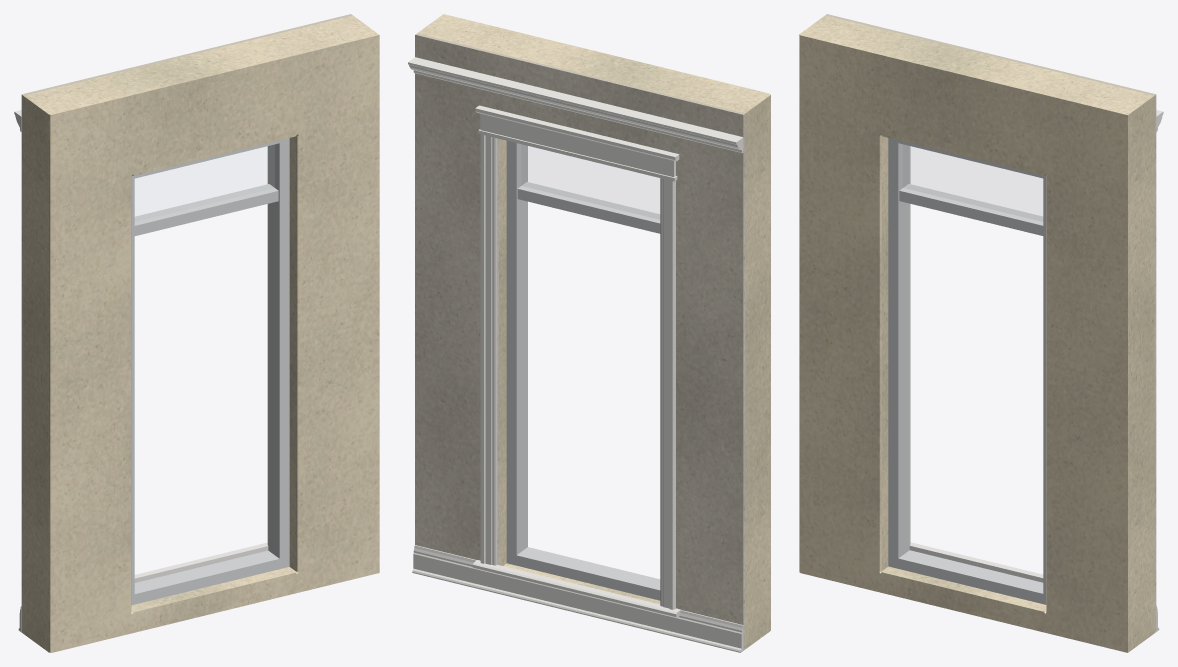
The model's file is wall_lobby_door.glb.
3 renders of one model, left to right at view 1: azimuth 30°, elevation 25°; view 2: azimuth 150°, elevation 25°; view 3: azimuth 330°, elevation 25°, orthographic.
Visible parts, largest first — view 1: wall_lobby_door_stucco, wall_lobby_door_alu, wall_lobby_door_glass, wall_lobby_door_plaster, molduras; view 2: wall_lobby_door_plaster, molduras, wall_lobby_door_stucco, wall_lobby_door_alu, wall_lobby_door_glass; view 3: wall_lobby_door_stucco, wall_lobby_door_alu, wall_lobby_door_glass, wall_lobby_door_plaster, molduras.
Boxes of the visible parts, x1=… form: wall_lobby_door_stucco: x1=23, y1=15, x2=379, y2=652; wall_lobby_door_alu: x1=131, y1=138, x2=289, y2=605; wall_lobby_door_glass: x1=135, y1=145, x2=274, y2=221; wall_lobby_door_plaster: x1=21, y1=14, x2=352, y2=633; molduras: x1=14, y1=110, x2=268, y2=632; wall_lobby_door_plaster: x1=415, y1=33, x2=745, y2=650; molduras: x1=408, y1=57, x2=743, y2=652; wall_lobby_door_stucco: x1=417, y1=14, x2=770, y2=649; wall_lobby_door_alu: x1=506, y1=141, x2=660, y2=600; wall_lobby_door_glass: x1=522, y1=145, x2=659, y2=218; wall_lobby_door_stucco: x1=799, y1=15, x2=1154, y2=652; wall_lobby_door_alu: x1=888, y1=138, x2=1046, y2=604; wall_lobby_door_glass: x1=903, y1=145, x2=1042, y2=221; wall_lobby_door_plaster: x1=825, y1=14, x2=1156, y2=632; molduras: x1=909, y1=110, x2=1163, y2=631.
Bounding box in the file's own units: 2 × 3.12 × 0.375.
5 materials, 2 textured.
